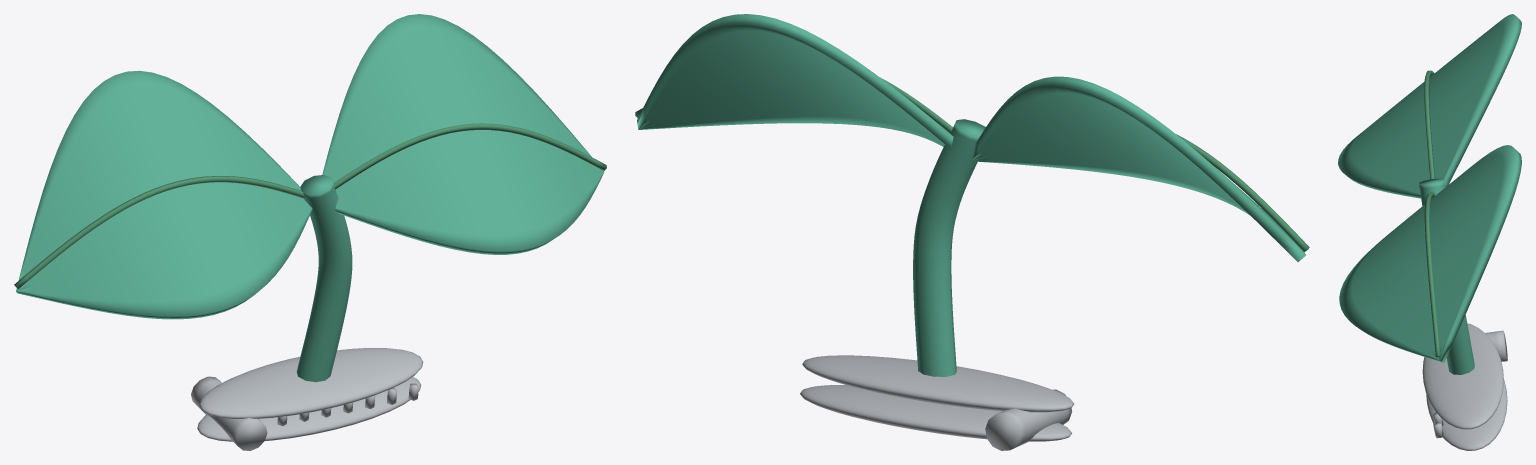
Rendered from Masculine-middle-part-sprout.glb.
The picture shows the model from 3 angles, left to right: view 1: azimuth 30°, elevation 25°; view 2: azimuth 150°, elevation 25°; view 3: azimuth 270°, elevation 25°; orthographic projection. The views are drawn at different scales.
Visible parts, largest first — view 1: 226 extra / Accessory / mint226, 226 extra / Sprout / clip silver235, 226 extra / Sprout / leaf vein235; view 2: 226 extra / Accessory / mint226, 226 extra / Sprout / clip silver235, 226 extra / Sprout / leaf vein235; view 3: 226 extra / Accessory / mint226, 226 extra / Sprout / clip silver235, 226 extra / Sprout / leaf vein235.
Boxes of the visible parts, bbox=[...] form: 226 extra / Accessory / mint226: bbox=[16, 14, 604, 382]; 226 extra / Sprout / clip silver235: bbox=[191, 348, 423, 450]; 226 extra / Sprout / leaf vein235: bbox=[14, 123, 606, 289]; 226 extra / Accessory / mint226: bbox=[637, 14, 1305, 376]; 226 extra / Sprout / clip silver235: bbox=[800, 355, 1074, 450]; 226 extra / Sprout / leaf vein235: bbox=[635, 77, 1309, 252]; 226 extra / Accessory / mint226: bbox=[1338, 14, 1521, 374]; 226 extra / Sprout / clip silver235: bbox=[1422, 323, 1507, 450]; 226 extra / Sprout / leaf vein235: bbox=[1424, 70, 1440, 357].
Bounding box in the file's own units: 0.2236 × 0.1315 × 0.0685.
